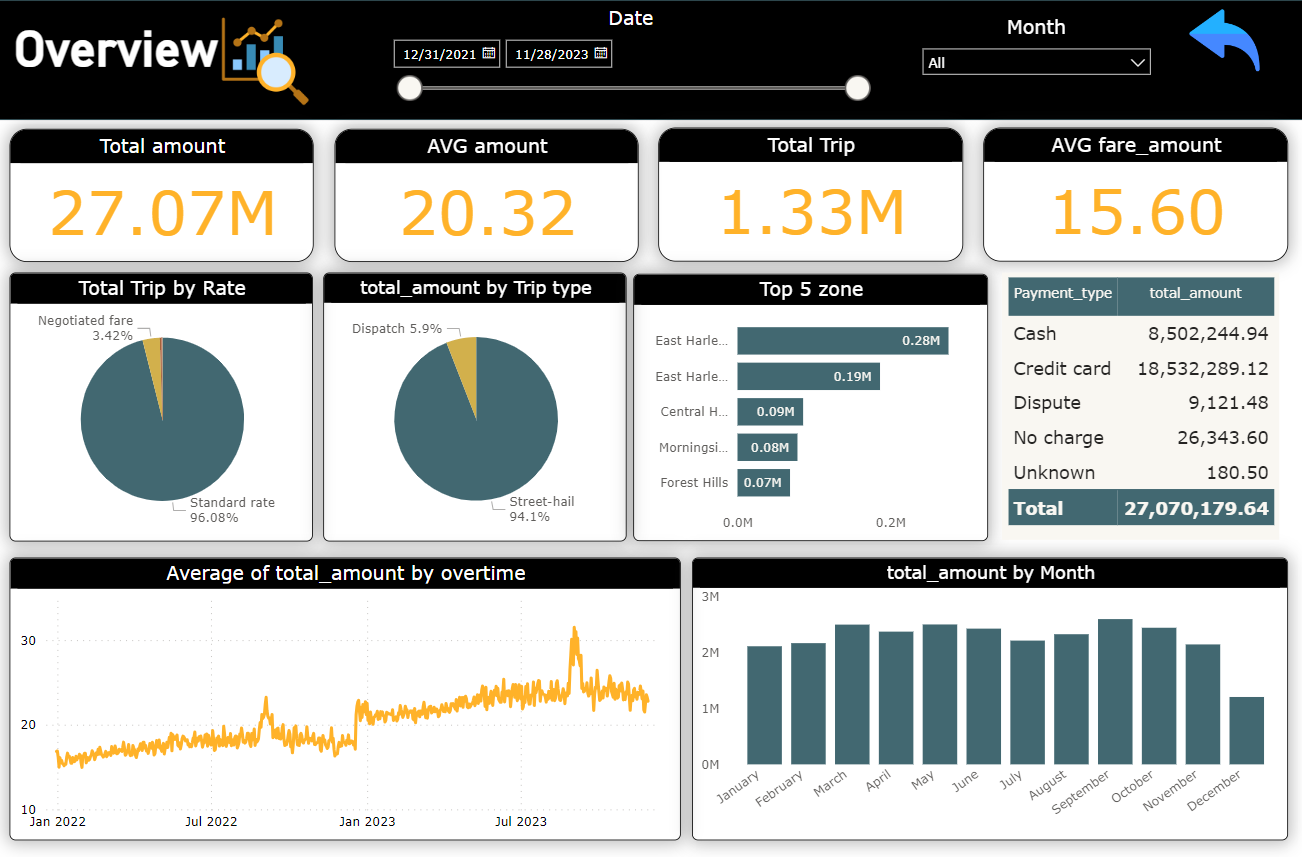

What the dashboard file says about the page in this screenshot:
{"tool":"powerbi","page":{"name":"Overview","canvas":[1280,850],"ordinal":1},"visuals":[{"type":"shape","box":[0,0,1280.2,117.4],"z":0},{"type":"textbox","box":[12.8,15.1,277.9,88.4],"z":1000},{"type":"image","box":[175.6,8.1,173.3,102.3],"z":2000},{"type":"slicer","title":"Date","fields":{"Values":["public DimDate.lpep_pickup_datetime"]},"box":[375.5,6.1,489.2,104],"z":3000},{"type":"slicer","title":"Month","fields":{"Values":["public DimDate.lpep_pickup_datetime.Variation.Date Hierarchy.Month"]},"box":[895.3,14.7,243.4,89.3],"z":4000},{"type":"card","title":"Total amount","fields":{"Values":["Sum(public Fact_table.total_amount)"]},"box":[12.8,125.6,297.7,130.2],"z":5000},{"type":"card","title":"AVG amount","fields":{"Values":["Avg(public Fact_table.total_amount)"]},"box":[330,125.6,297.7,130.2],"z":6000},{"type":"card","title":"Total Trip","fields":{"Values":["CountNonNull(public Fact_table.Vendor_ID)"]},"box":[647.3,125,298.2,131.1],"z":7000},{"type":"card","title":"AVG fare_amount","fields":{"Values":["Avg(public Fact_table.fare_amount)"]},"box":[965.1,125,298.2,131.1],"z":8000},{"type":"lineChart","title":"Average of total_amount by overtime","fields":{"Y":["Avg(public Fact_table.total_amount)"],"Category":["public DimDate.lpep_pickup_datetime.Variation.Date Hierarchy.Year","public DimDate.lpep_pickup_datetime.Variation.Date Hierarchy.Quarter","public DimDate.lpep_pickup_datetime.Variation.Date Hierarchy.Month","public DimDate.lpep_pickup_datetime.Variation.Date Hierarchy.Day"]},"box":[12.2,545.5,656.8,276.4],"z":9000},{"type":"pieChart","title":"total_amount by Trip type","fields":{"Category":["public DimtripType.type"],"Y":["Sum(public Fact_table.total_amount)"]},"box":[319.2,266.6,297.2,262.9],"z":10000},{"type":"pieChart","fields":{"Category":["public Dimrate.Rate"],"Y":["CountNonNull(public Fact_table.Vendor_ID)"]},"box":[12.2,266.6,297.2,262.9],"z":11000},{"type":"barChart","title":"Top 5 zone ","fields":{"Category":["public DimdropLocation.Zone"],"Y":["CountNonNull(public Fact_table.Vendor_ID)"]},"box":[622.5,267.8,347.3,261.7],"z":12000},{"type":"columnChart","fields":{"Category":["public DimDate.lpep_pickup_datetime.Variation.Date Hierarchy.Month"],"Y":["Sum(public Fact_table.total_amount)"]},"box":[680,545.5,583.4,276.4],"z":13000},{"type":"tableEx","fields":{"Values":["public DimPayment.Payment_type","Sum(public Fact_table.total_amount)"]},"box":[983.3,266.6,271.5,261.7],"z":14000},{"type":"image","box":[1138.6,0,124.7,78.3],"z":15000}]}

Visuals, with their boxes in screenshot pixels (x1, y1, x2, y2), scaled from the page's 1280x850 canvas onto the 1302x857 screenshot:
shape: 0/0/1301/118
textbox: 13/15/296/104
image: 179/8/355/111
"Date" slicer: 382/6/880/111
"Month" slicer: 911/15/1158/105
"Total amount" card: 13/127/316/258
"AVG amount" card: 336/127/638/258
"Total Trip" card: 658/126/962/258
"AVG fare_amount" card: 982/126/1285/258
"Average of total_amount by overtime" lineChart: 12/550/680/829
"total_amount by Trip type" pieChart: 325/269/627/534
pieChart - public Dimrate.Rate x CountNonNull(public Fact_table.Vendor_ID): 12/269/315/534
"Top 5 zone " barChart: 633/270/986/534
columnChart - public DimDate.lpep_pickup_datetime.Variation.Date Hierarchy.Month x Sum(public Fact_table.total_amount): 692/550/1285/829
tableEx - public DimPayment.Payment_type x Sum(public Fact_table.total_amount): 1000/269/1276/533
image: 1158/0/1285/79
